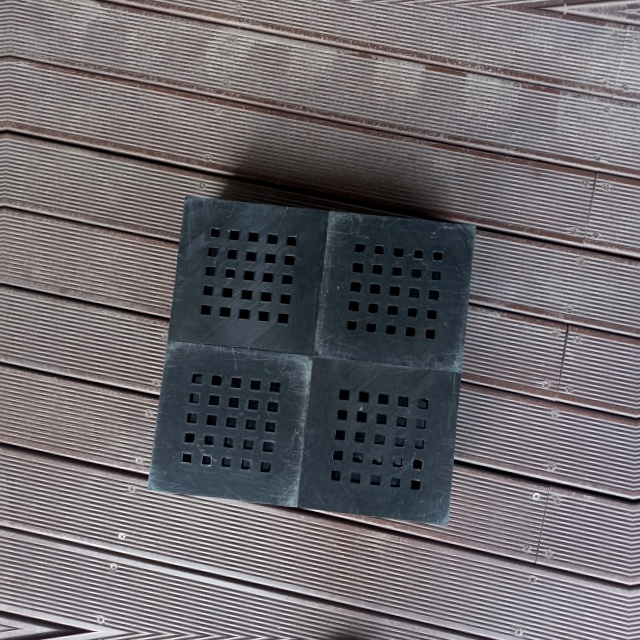pallet: (134, 182, 493, 537)
